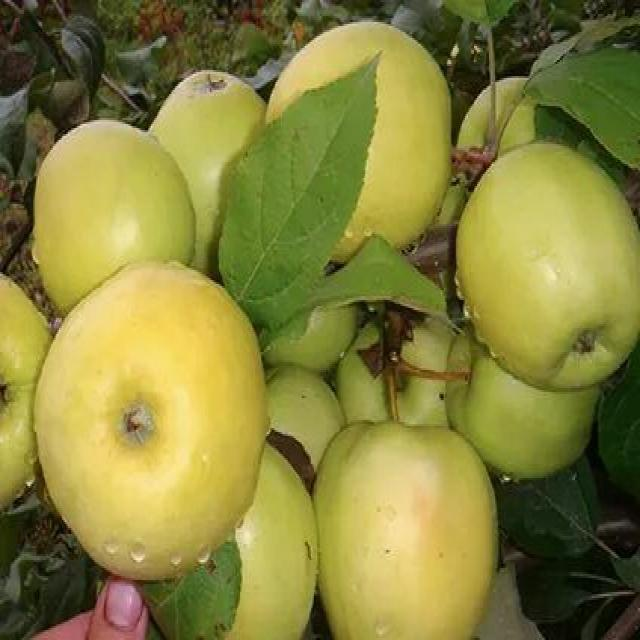Fresh Apple: (36, 274, 262, 580), (460, 146, 640, 396), (326, 418, 490, 640), (28, 120, 194, 320)
